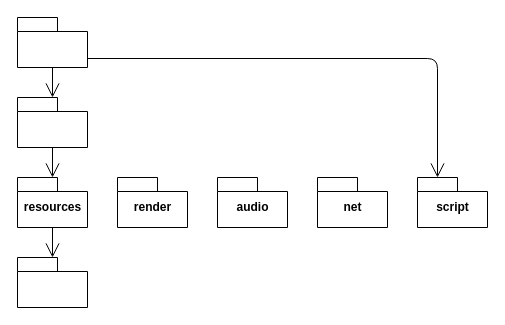
This 505x325 diagram has some shape labels left out. The shapes that lost their labels are listed below. From the top down, each one's centre as x and y in pixels, then its label:
(x=52, y=42): game
(x=52, y=122): gui
(x=52, y=282): core
